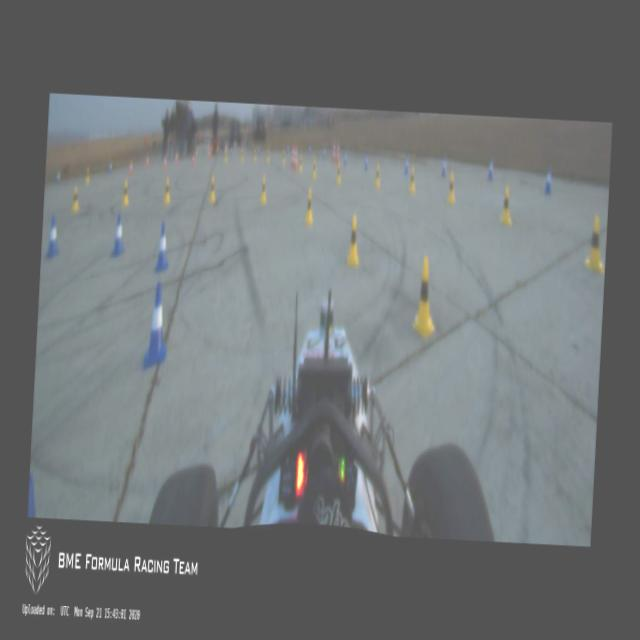blue_cone: (141, 280, 171, 370), (154, 220, 171, 272), (45, 213, 62, 260), (110, 213, 127, 258), (544, 167, 552, 196), (440, 154, 448, 179), (486, 158, 494, 182), (404, 154, 410, 176), (343, 150, 348, 166), (364, 152, 368, 170), (108, 160, 112, 176), (56, 170, 60, 184), (322, 148, 326, 160), (309, 146, 311, 154)
large_orange_cone: (292, 142, 298, 170), (336, 139, 342, 164), (290, 143, 295, 169), (331, 139, 336, 164)
orange_cone: (191, 152, 195, 167), (163, 157, 167, 170), (146, 155, 150, 168), (130, 163, 134, 174), (175, 152, 178, 164)
yellow_cone: (412, 255, 439, 337), (584, 216, 606, 274), (346, 214, 362, 266), (500, 184, 514, 226), (304, 188, 316, 226), (447, 171, 456, 204), (70, 185, 80, 212), (121, 180, 130, 208), (163, 177, 172, 204), (208, 176, 216, 204), (260, 178, 268, 204), (409, 166, 416, 194), (374, 163, 381, 189), (336, 164, 342, 184), (312, 161, 318, 180), (85, 165, 91, 183), (298, 154, 303, 174), (266, 148, 270, 162), (240, 149, 244, 162), (224, 150, 228, 163), (282, 150, 285, 164), (254, 150, 256, 161)
